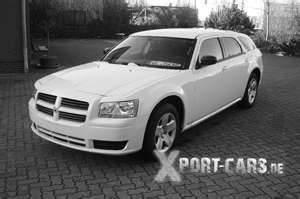car: (26, 26, 268, 160)
